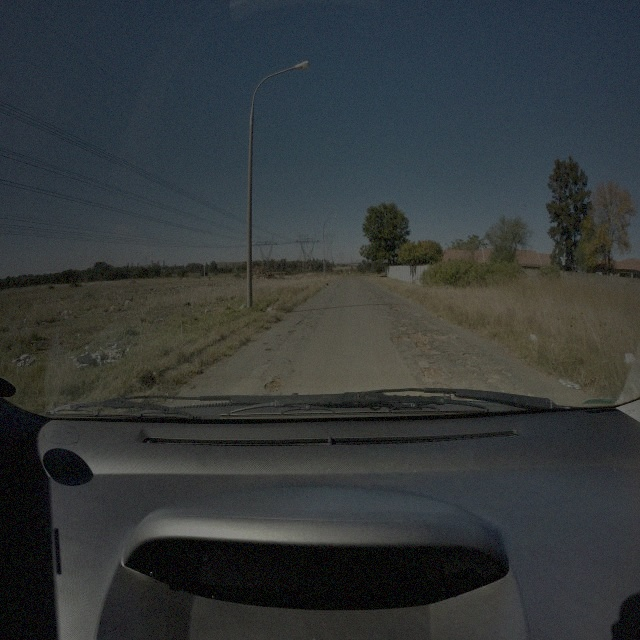pothole: (407, 328, 447, 352), (264, 372, 285, 396), (420, 365, 443, 377), (433, 383, 456, 395), (465, 360, 481, 370), (389, 335, 402, 347), (391, 302, 401, 314), (296, 317, 311, 325)
